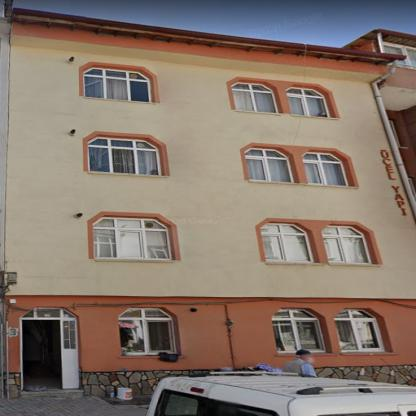door: (20, 308, 79, 390)
window: (92, 218, 171, 260), (88, 136, 161, 174), (119, 308, 176, 356), (271, 308, 325, 353), (84, 67, 152, 102), (334, 309, 385, 353), (320, 224, 373, 264), (260, 224, 314, 262), (244, 148, 294, 183), (302, 152, 349, 187), (230, 82, 279, 113), (286, 86, 330, 118), (383, 42, 415, 68)
